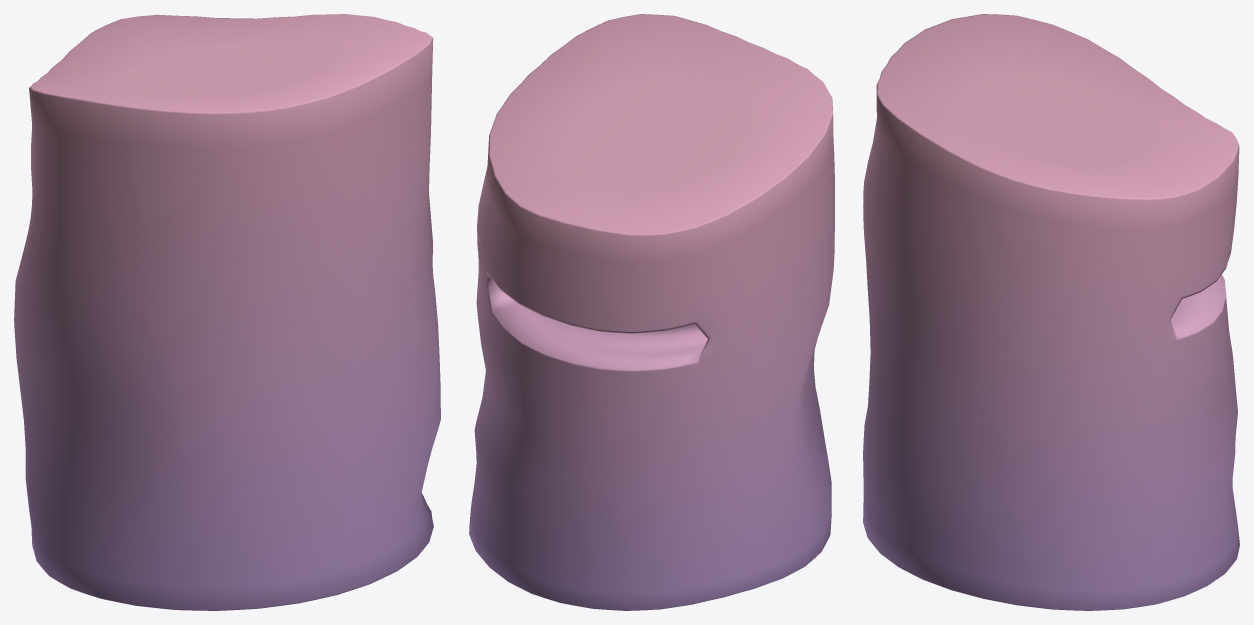
Rendered from Lixo_Amassando_3.fbx.
The picture shows the model from 3 angles, left to right: view 1: azimuth 30°, elevation 25°; view 2: azimuth 150°, elevation 25°; view 3: azimuth 270°, elevation 25°; orthographic projection. The views are drawn at different scales.
Parts seen in each view (by area): view 1: Cylinder.003; view 2: Cylinder.003; view 3: Cylinder.003.
Boxes of the visible parts, left/top/right/bottom form: Cylinder.003: left=14, top=14, right=440, bottom=610; Cylinder.003: left=469, top=14, right=834, bottom=610; Cylinder.003: left=863, top=14, right=1239, bottom=610.
Size of the model in its own units: 148 by 203 by 147.
Materials: 1 (1 with a texture image).
